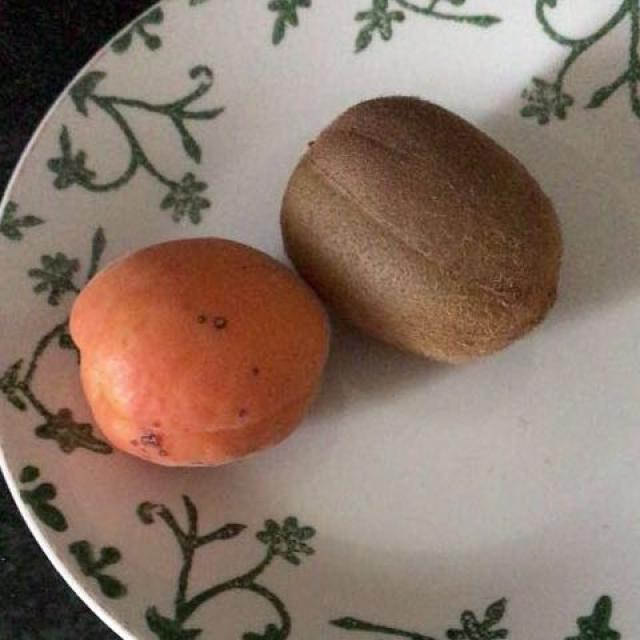Apricot: (74, 74, 467, 326)
Kiwi: (86, 295, 504, 567)
